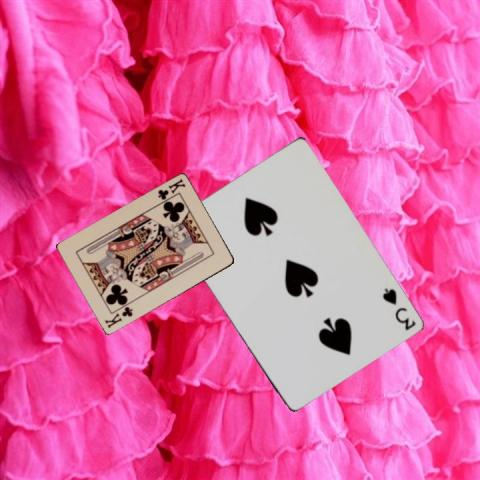3s: (378, 285, 416, 331)
Kc: (101, 304, 134, 330), (154, 176, 186, 201)
